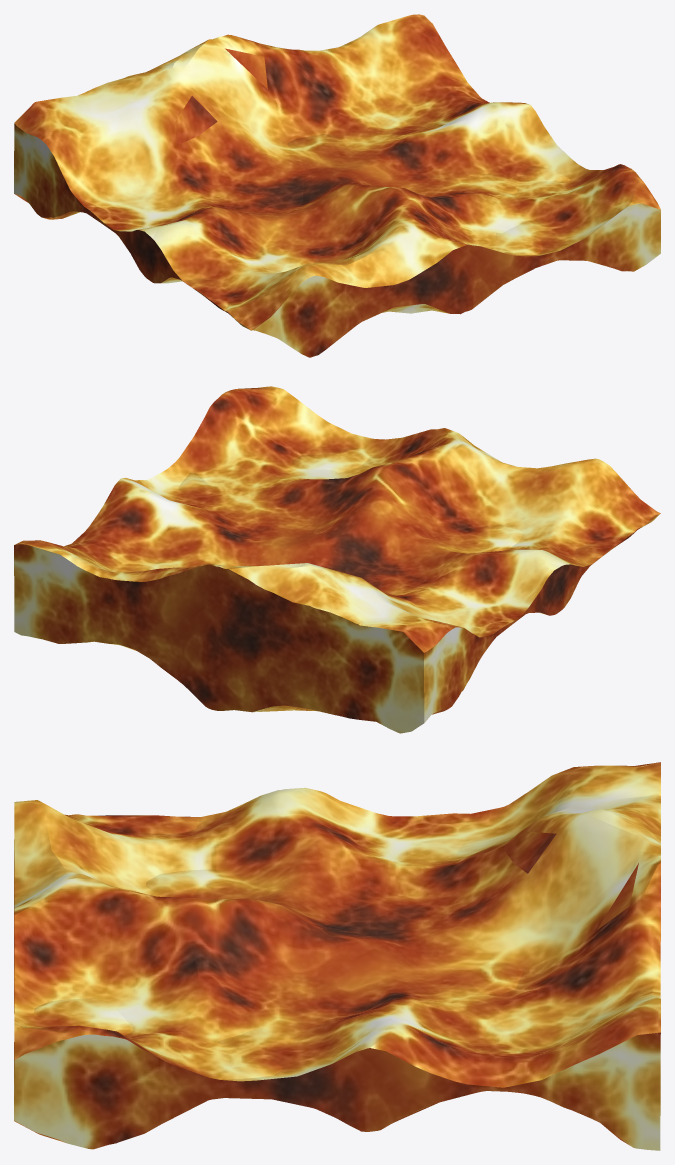
The model's file is Fire.dae.
3 views of the same model, one above another, from view 1: azimuth 30°, elevation 25°; view 2: azimuth 150°, elevation 25°; view 3: azimuth 270°, elevation 25° (orthographic). The views are drawn at different scales.
Visible parts, largest first — view 1: rock; view 2: rock; view 3: rock.
Part boxes in pixels (x1=…): rock: x1=14, y1=14, x2=660, y2=357; rock: x1=14, y1=386, x2=660, y2=733; rock: x1=14, y1=762, x2=660, y2=1150.
Size of the model in its own units: 2.01 by 2.01 by 0.6877.
